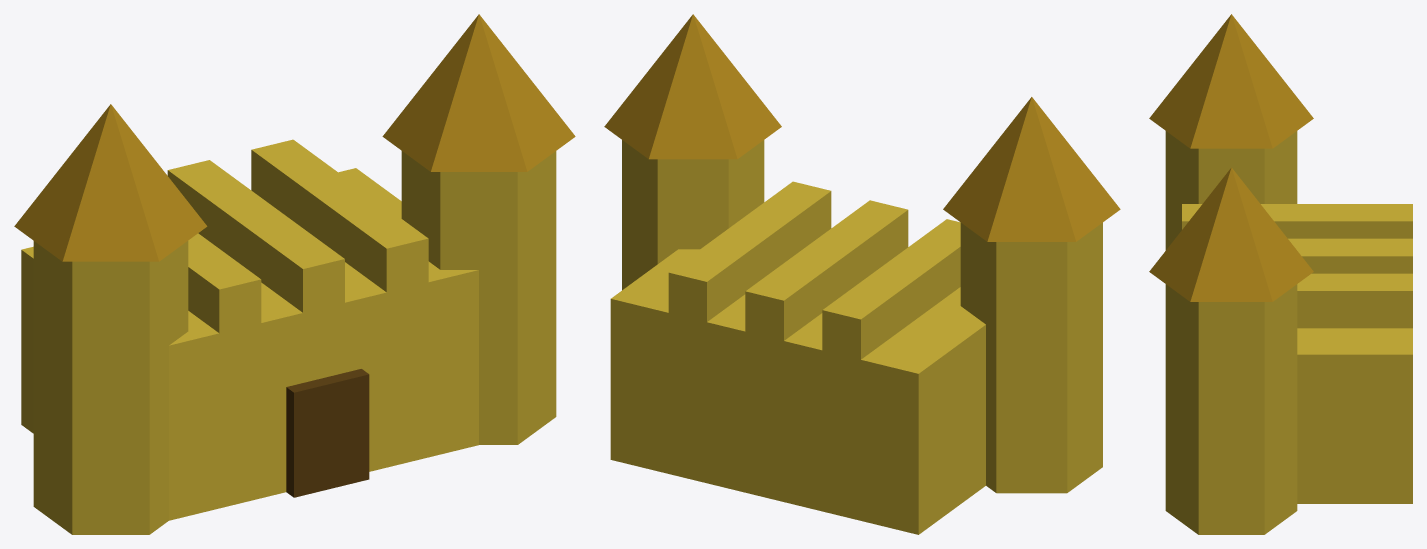
File: mark_large.glb
The picture shows the model from 3 angles, left to right: view 1: azimuth 30°, elevation 25°; view 2: azimuth 150°, elevation 25°; view 3: azimuth 270°, elevation 25°; orthographic projection. The views are drawn at different scales.
Visible parts, largest first — view 1: mark_large; view 2: mark_large; view 3: mark_large.
Part boxes in pixels (bbox=[...]): mark_large: bbox=[14, 14, 575, 534]; mark_large: bbox=[604, 14, 1120, 534]; mark_large: bbox=[1149, 14, 1412, 534].
Bounding box in the file's own units: 0.3066 × 0.23 × 0.16.
